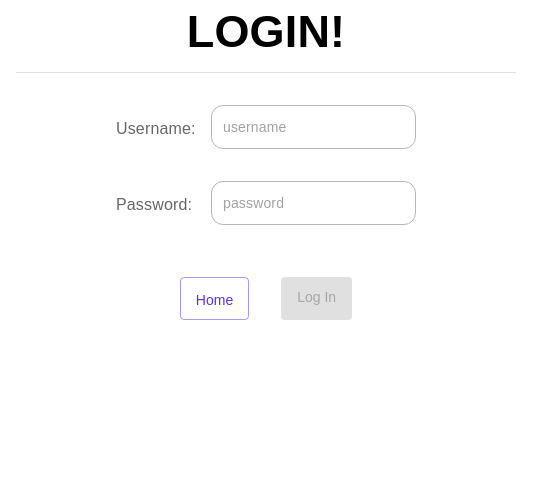
Test: LoginPage component › should handle login failure
Type "testuser" into the field with placeholder "username" at (314, 127), box [211,105,416,149]
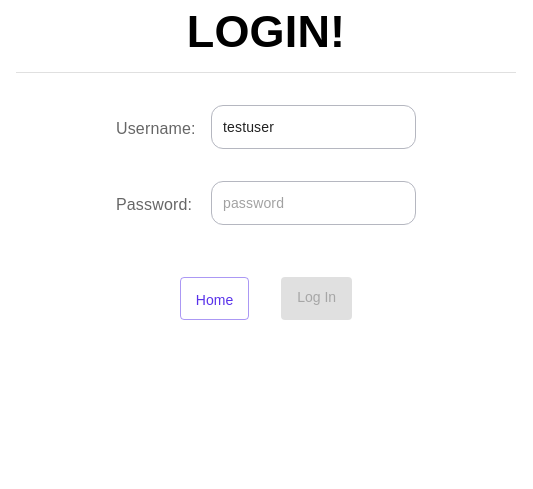
Type "password" into the password field with placeholder "password" at (314, 203), box [211,181,416,225]
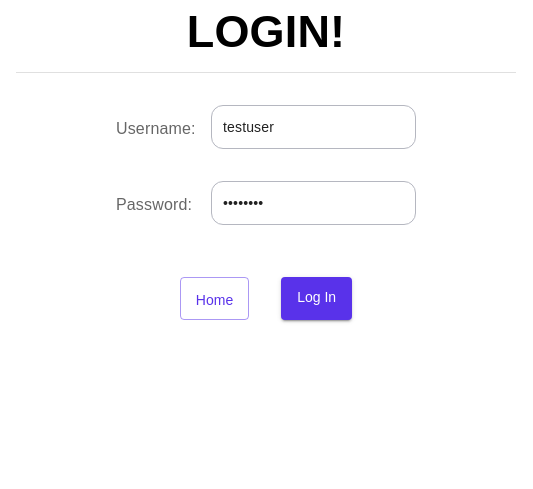
Click the button "Log in" at (317, 299), box [281,277,352,320]
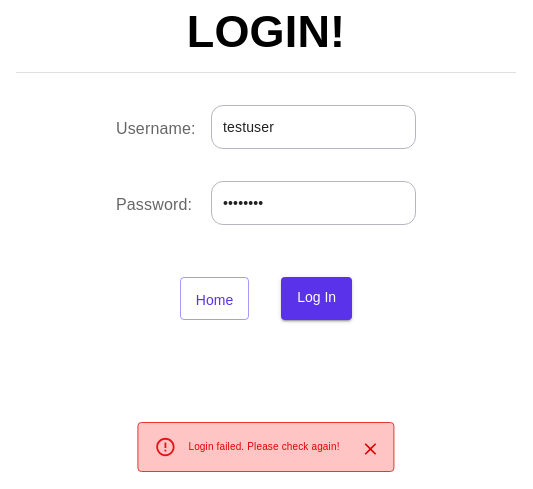
Expected: the text "Login failed. Please check again!" is shown, [188,441,340,452]
